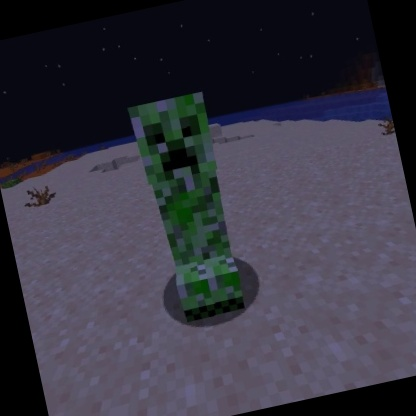creeper: (123, 86, 256, 331)
